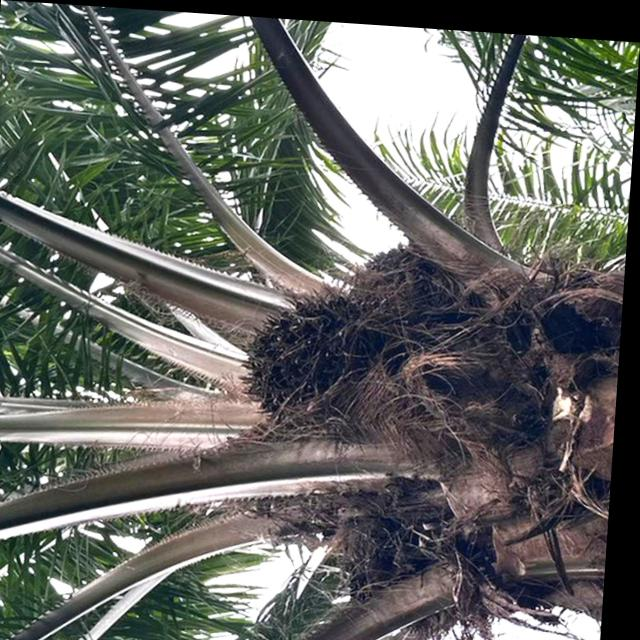almost: (233, 275, 409, 436)
